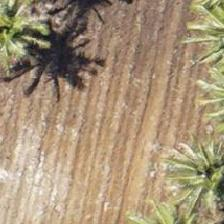coconut_tree: (174, 143, 223, 223), (0, 0, 47, 77)
